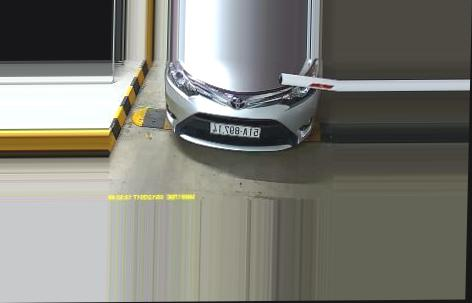License_Plate: (203, 122, 263, 140)
